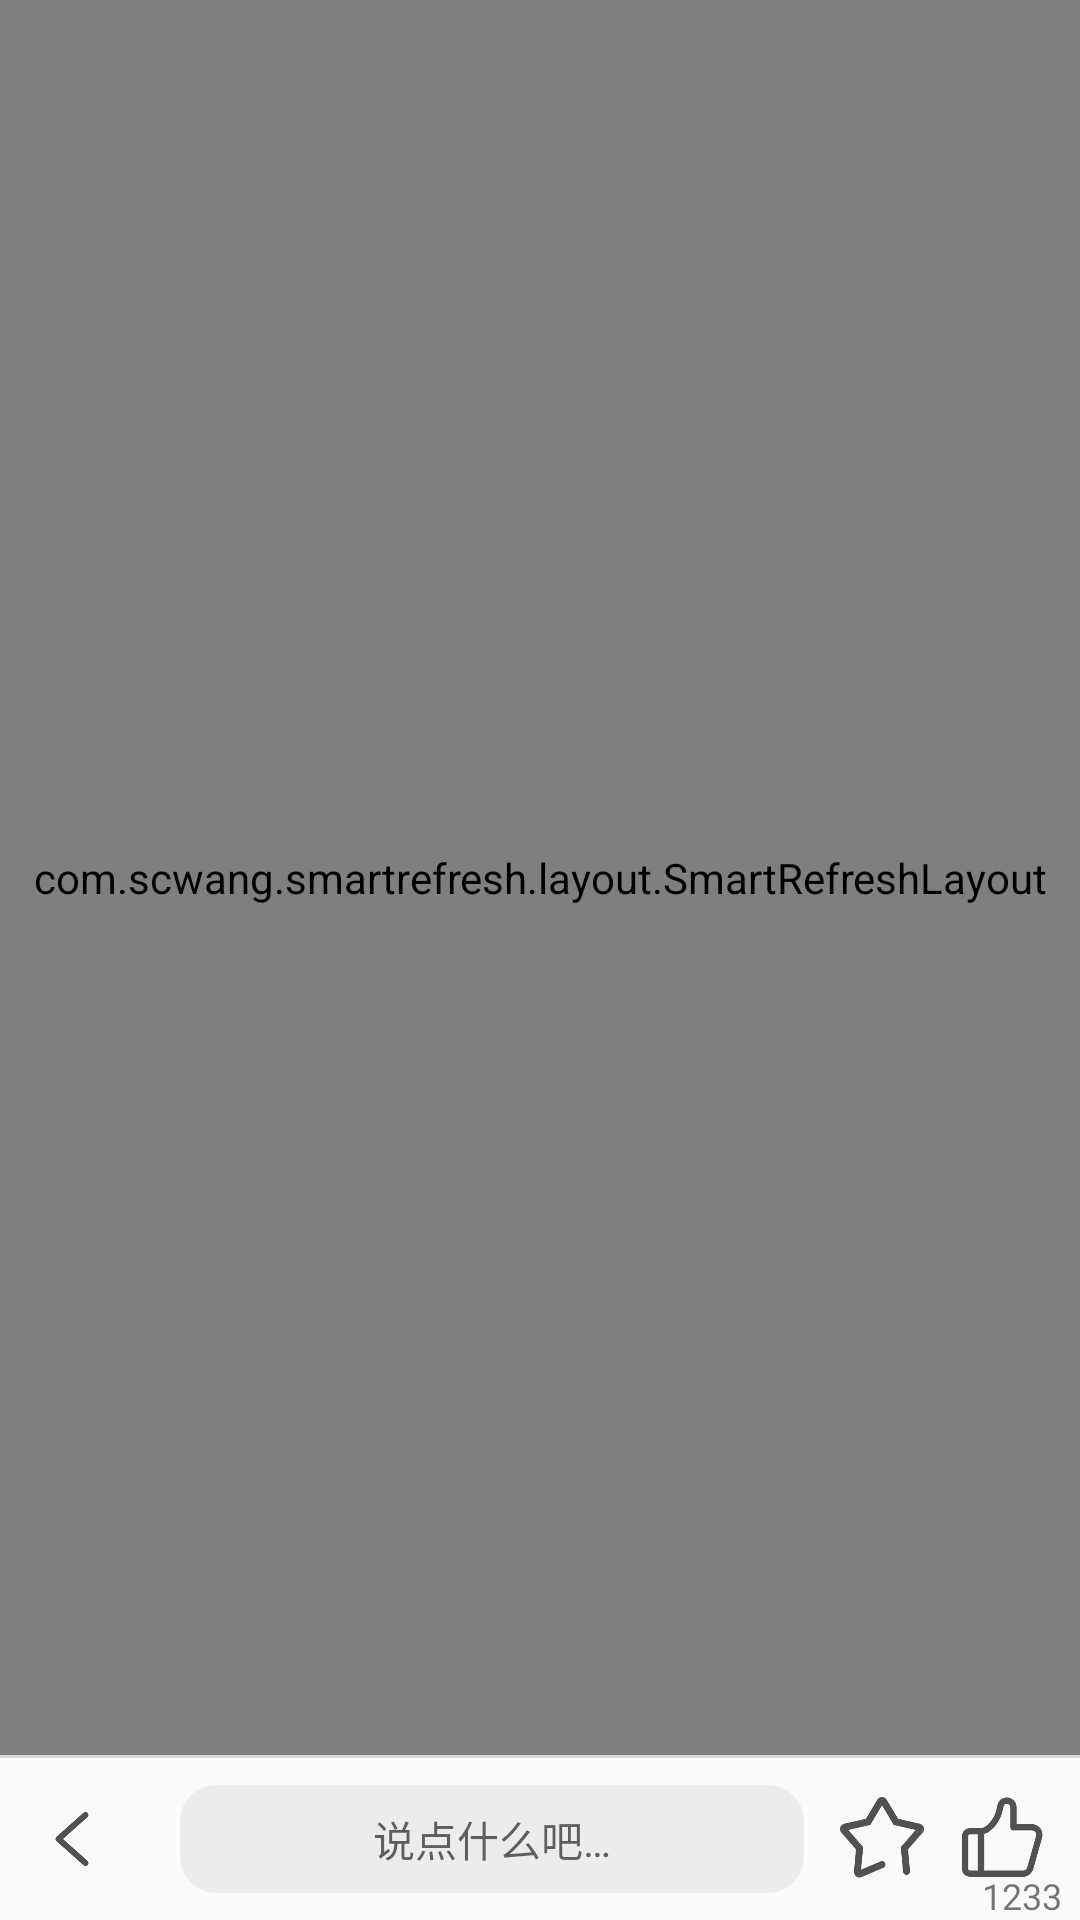

Named icons in this screenshot (1080px×1920px) and their bounding boxes, (x1, y1, x2, y2):
back: (55, 1812, 89, 1866)
collection nor: (840, 1797, 924, 1878)
like nor: (962, 1797, 1043, 1877)
